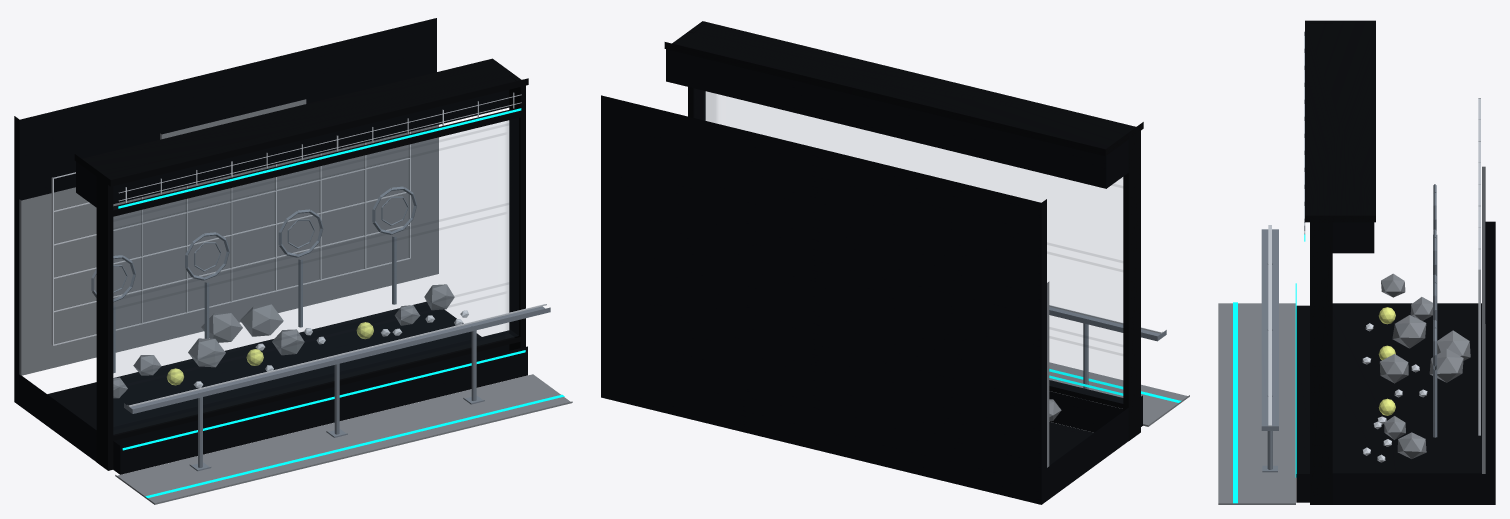
File: v4_rally_tank.glb
The picture shows the model from 3 angles, left to right: view 1: azimuth 30°, elevation 25°; view 2: azimuth 150°, elevation 25°; view 3: azimuth 270°, elevation 25°; orthographic projection. The views are drawn at different scales.
Parts seen in each view (by area): view 1: Reef_Backdrop, Tank_Shell, Acrylic_Frame, Terrazzo_Strip, Sill_Nosing, Glass_Acrylic, Net_Fan, Lean_Rail, Reef_Rocks, Racket_Coral, Header_Net, Cyan_Inlay (+4 smaller); view 2: Tank_Shell, Acrylic_Frame, Terrazzo_Strip, Sill_Nosing, Glass_Acrylic, Lean_Rail; view 3: Tank_Shell, Acrylic_Frame, Terrazzo_Strip, Reef_Rocks, Lean_Rail, Sill_Nosing, Reef_Backdrop, Racket_Coral, Net_Fan, Cyan_Inlay, Rail_Accent, Ball_Buoys (+2 smaller).
Boxes of the visible parts, bbox=[...] form: Reef_Backdrop: bbox=[19, 99, 438, 375]; Tank_Shell: bbox=[14, 18, 514, 461]; Acrylic_Frame: bbox=[74, 58, 528, 470]; Terrazzo_Strip: bbox=[115, 374, 572, 504]; Sill_Nosing: bbox=[113, 346, 527, 474]; Glass_Acrylic: bbox=[113, 118, 518, 389]; Net_Fan: bbox=[51, 131, 410, 345]; Lean_Rail: bbox=[124, 306, 550, 471]; Reef_Rocks: bbox=[113, 284, 454, 398]; Racket_Coral: bbox=[91, 186, 416, 373]; Header_Net: bbox=[118, 92, 521, 202]; Cyan_Inlay: bbox=[145, 394, 564, 497]; Tank_Shell: bbox=[601, 49, 1128, 504]; Acrylic_Frame: bbox=[664, 21, 1143, 440]; Terrazzo_Strip: bbox=[1049, 362, 1189, 426]; Sill_Nosing: bbox=[1049, 391, 1142, 432]; Glass_Acrylic: bbox=[704, 91, 1122, 356]; Lean_Rail: bbox=[1049, 306, 1166, 400]; Tank_Shell: bbox=[1332, 221, 1495, 504]; Acrylic_Frame: bbox=[1305, 20, 1375, 504]; Terrazzo_Strip: bbox=[1218, 303, 1295, 504]; Reef_Rocks: bbox=[1379, 273, 1470, 458]; Lean_Rail: bbox=[1261, 229, 1278, 472]; Sill_Nosing: bbox=[1296, 305, 1309, 502]; Reef_Backdrop: bbox=[1482, 166, 1485, 473]; Racket_Coral: bbox=[1433, 184, 1437, 437]; Net_Fan: bbox=[1478, 98, 1480, 435]; Cyan_Inlay: bbox=[1233, 302, 1237, 503]; Rail_Accent: bbox=[1268, 225, 1271, 426]; Ball_Buoys: bbox=[1378, 307, 1395, 415].
Size of what is drawn, in the model's own units: 5.5 by 3.68 by 3.2.
8 materials, 5 textured.
